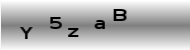5: (48, 15, 63, 29)
B: (112, 7, 127, 22)
Y: (19, 26, 33, 40)
a: (93, 19, 107, 30)
z: (65, 27, 80, 38)
